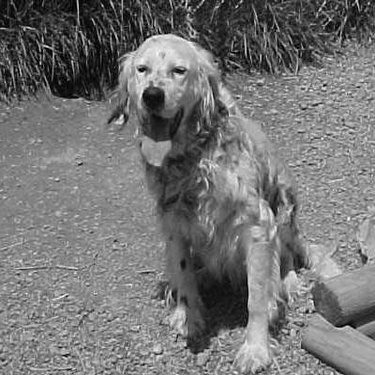dog: (103, 29, 318, 373)
